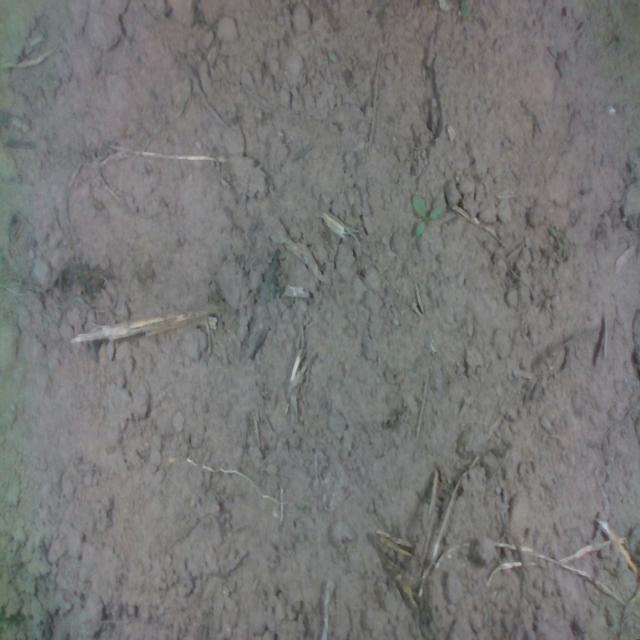weed: (410, 191, 442, 239)
